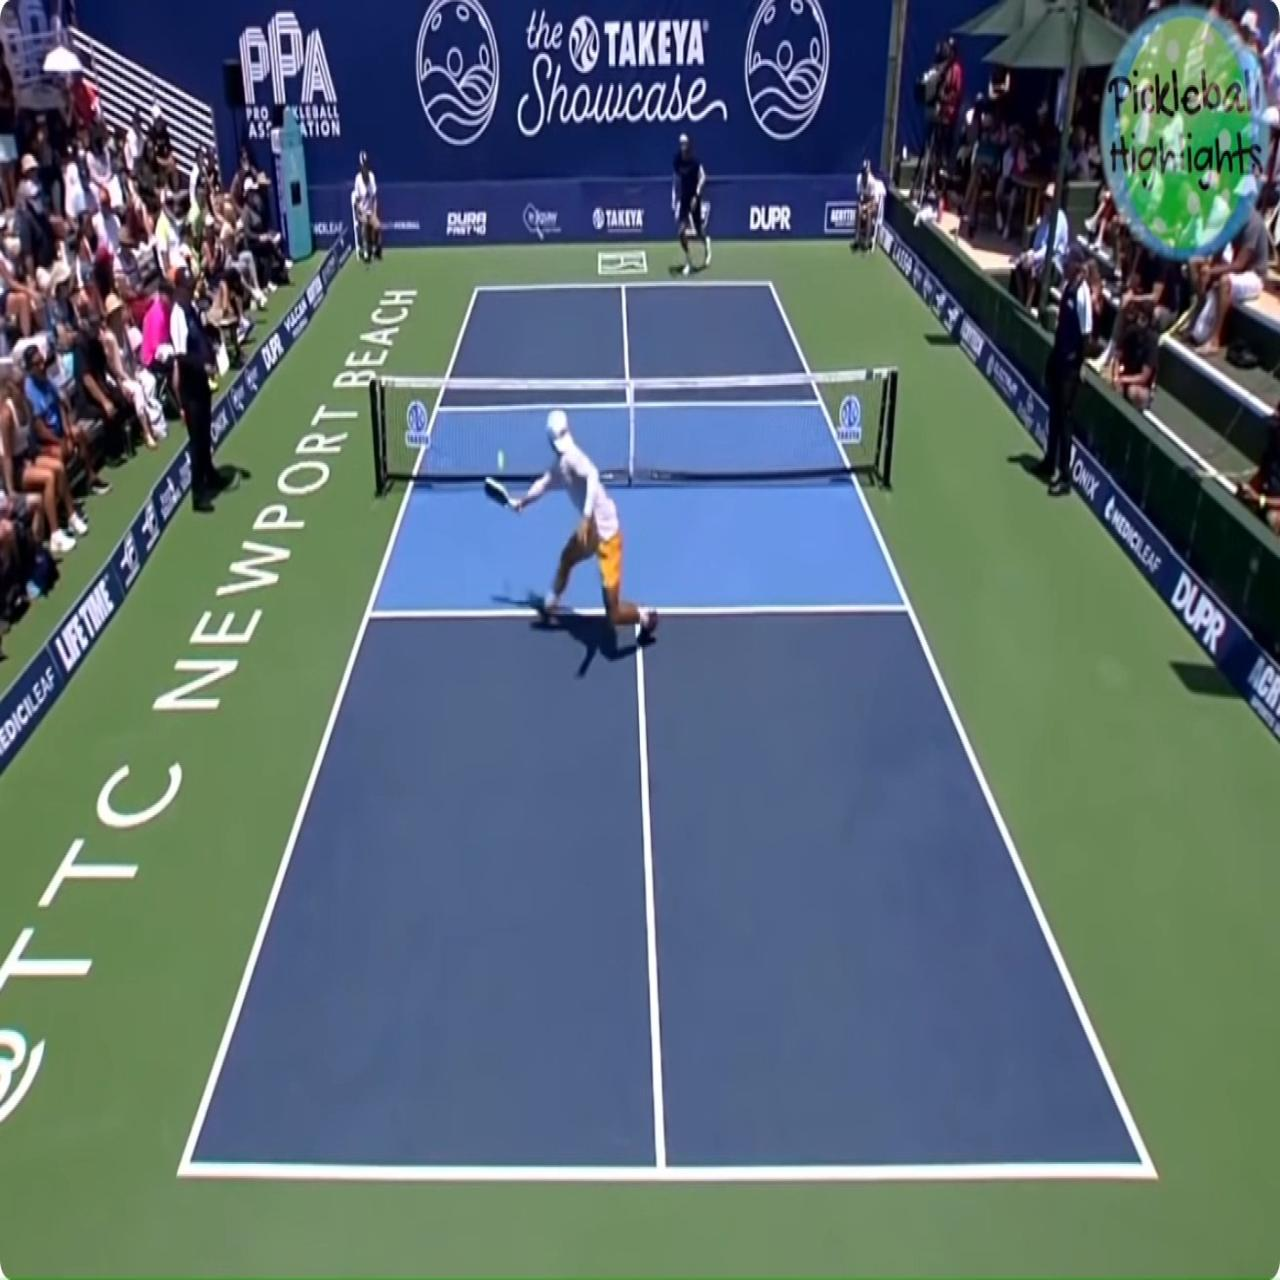pickleball: (497, 449, 505, 471)
